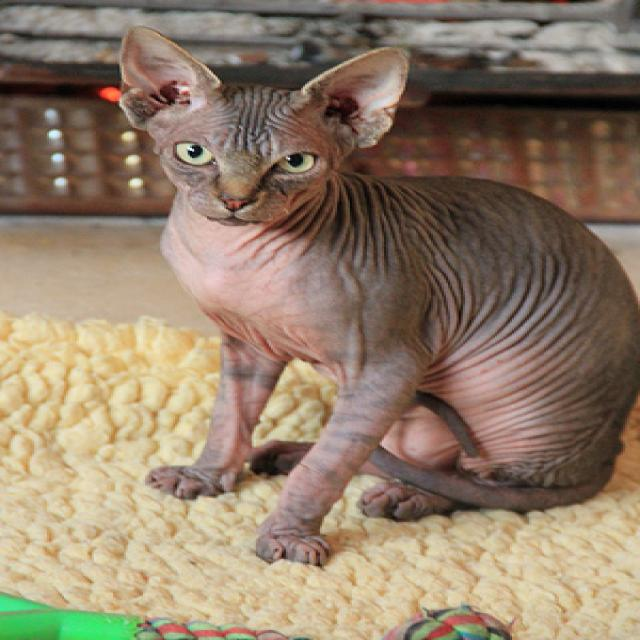Sphynx: (115, 21, 640, 569)
